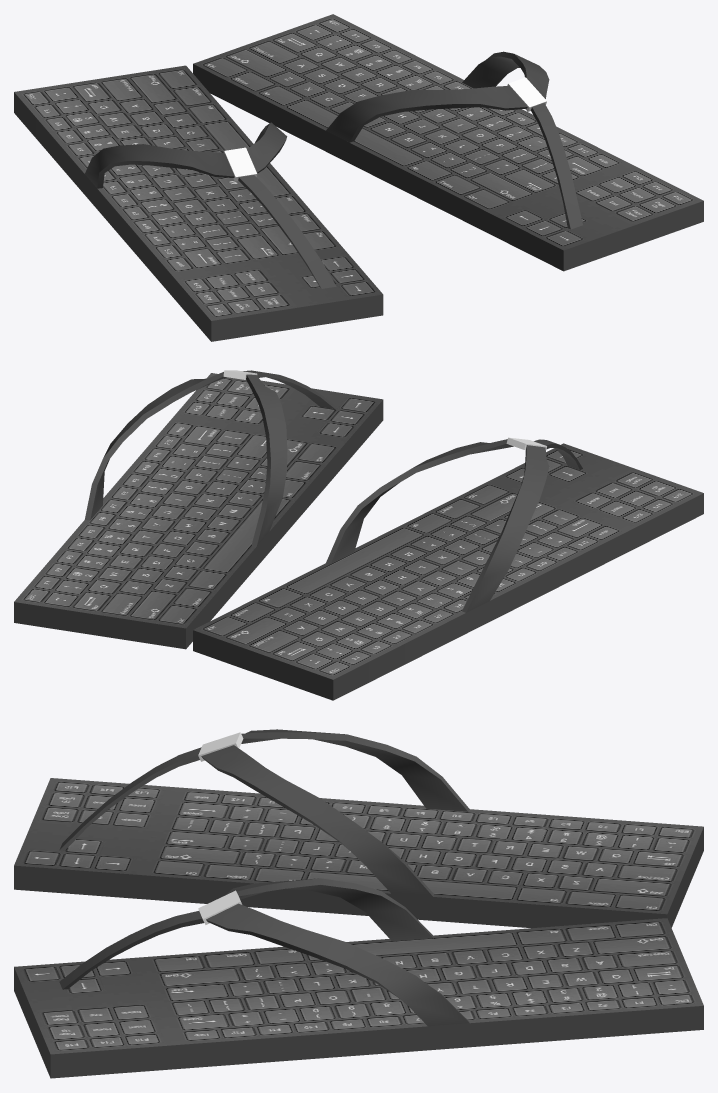
Rendered from KeyboardSlippers.fbx.
The picture shows the model from 3 angles, top to bottom: view 1: azimuth 30°, elevation 25°; view 2: azimuth 150°, elevation 25°; view 3: azimuth 270°, elevation 25°; orthographic projection. The views are drawn at different scales.
Parts seen in each view (by area): view 1: Shoe|Cube|Dupli|, Shoe.001|Cube|Dupli|, Shoe|Plane|Dupli|1, Shoe.001|Plane.001|Dupli|3, Shoe.001|Cube.002|Dupli|4, Shoe|Cube.002|Dupli|4, Shoe|Plane.001|Dupli|3, Shoe.001|Plane|Dupli|1, Shoe.001|Cube.001|Dupli|2, Shoe|Cube.001|Dupli|2; view 2: Shoe.001|Cube|Dupli|, Shoe|Cube|Dupli|, Shoe.001|Plane.001|Dupli|3, Shoe|Plane|Dupli|1, Shoe.001|Plane|Dupli|1, Shoe|Plane.001|Dupli|3, Shoe|Cube.002|Dupli|4; view 3: Shoe|Cube|Dupli|, Shoe.001|Cube|Dupli|, Shoe|Plane.001|Dupli|3, Shoe.001|Plane|Dupli|1, Shoe.001|Plane.001|Dupli|3, Shoe|Plane|Dupli|1, Shoe|Cube.002|Dupli|4, Shoe.001|Cube.002|Dupli|4, Shoe|Cube.001|Dupli|2.
Boxes of the visible parts, <box> form: Shoe|Cube|Dupli|: <box>193,14,703,271</box>; Shoe.001|Cube|Dupli|: <box>14,65,383,341</box>; Shoe|Plane|Dupli|1: <box>326,86,527,142</box>; Shoe.001|Plane.001|Dupli|3: <box>85,144,234,188</box>; Shoe.001|Cube.002|Dupli|4: <box>238,175,336,288</box>; Shoe|Cube.002|Dupli|4: <box>531,103,582,229</box>; Shoe|Plane.001|Dupli|3: <box>462,51,549,98</box>; Shoe.001|Plane|Dupli|1: <box>247,122,287,173</box>; Shoe.001|Cube.001|Dupli|2: <box>224,147,257,181</box>; Shoe|Cube.001|Dupli|2: <box>507,77,546,111</box>; Shoe.001|Cube|Dupli|: <box>193,443,703,700</box>; Shoe|Cube|Dupli|: <box>14,373,383,649</box>; Shoe.001|Plane.001|Dupli|3: <box>462,445,549,612</box>; Shoe|Plane|Dupli|1: <box>246,374,287,546</box>; Shoe.001|Plane|Dupli|1: <box>326,439,513,564</box>; Shoe|Plane.001|Dupli|3: <box>84,372,226,520</box>; Shoe|Cube.002|Dupli|4: <box>243,370,336,408</box>; Shoe|Cube|Dupli|: <box>14,918,703,1078</box>; Shoe.001|Cube|Dupli|: <box>14,778,703,928</box>; Shoe|Plane.001|Dupli|3: <box>206,903,469,1026</box>; Shoe.001|Plane|Dupli|1: <box>201,745,433,896</box>; Shoe.001|Plane.001|Dupli|3: <box>241,729,469,811</box>; Shoe|Plane|Dupli|1: <box>225,878,433,941</box>; Shoe|Cube.002|Dupli|4: <box>59,911,204,989</box>; Shoe.001|Cube.002|Dupli|4: <box>59,747,201,850</box>; Shoe|Cube.001|Dupli|2: <box>198,890,242,924</box>.
Bounding box in the file's own units: 197 × 41.05 × 208.
